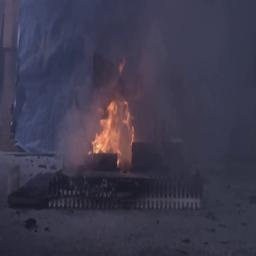fire: (89, 84, 134, 163)
